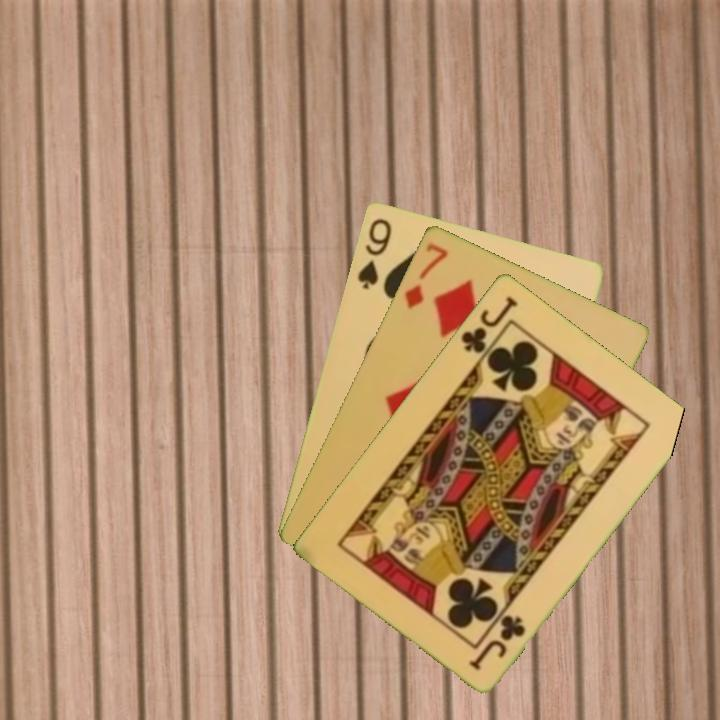7d: (400, 239, 451, 311)
9s: (353, 214, 395, 292)
Jc: (457, 292, 521, 356), (465, 610, 529, 673)
